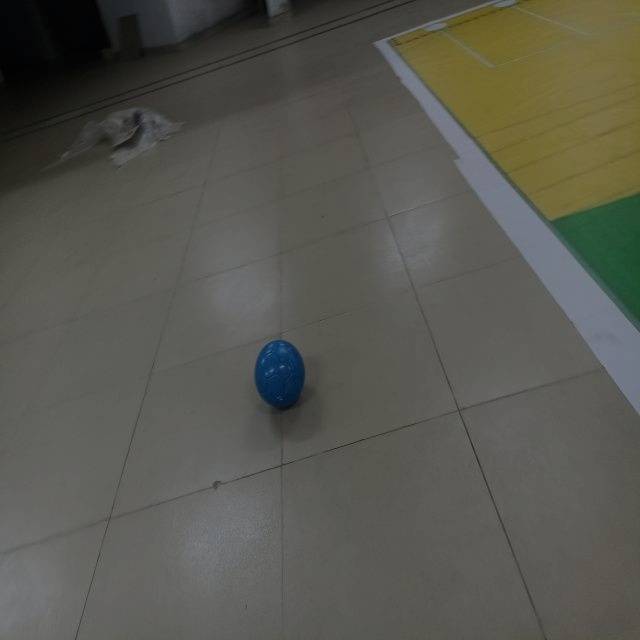blue_ball: (256, 338, 306, 408)
